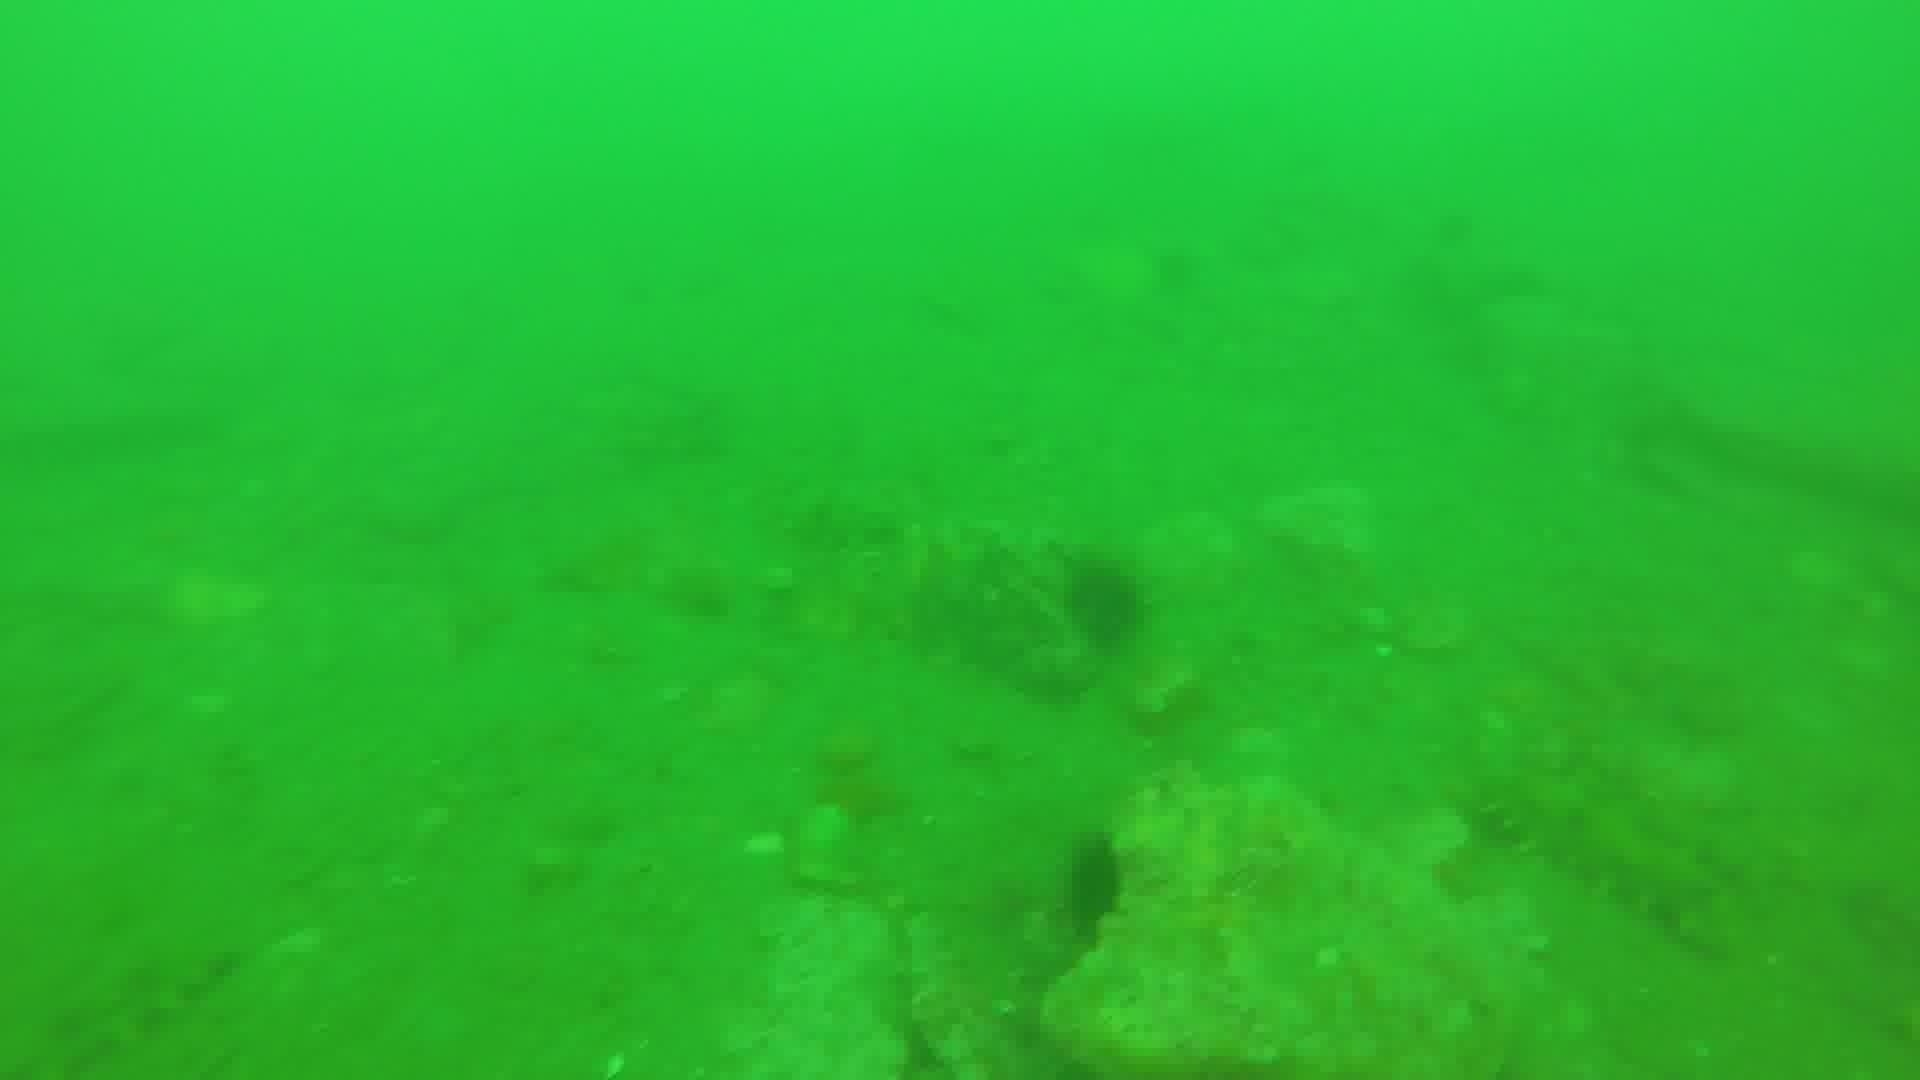echinus: (1052, 833, 1134, 944), (1058, 555, 1150, 653)
holothurian: (1464, 766, 1738, 952), (11, 930, 247, 1079)
